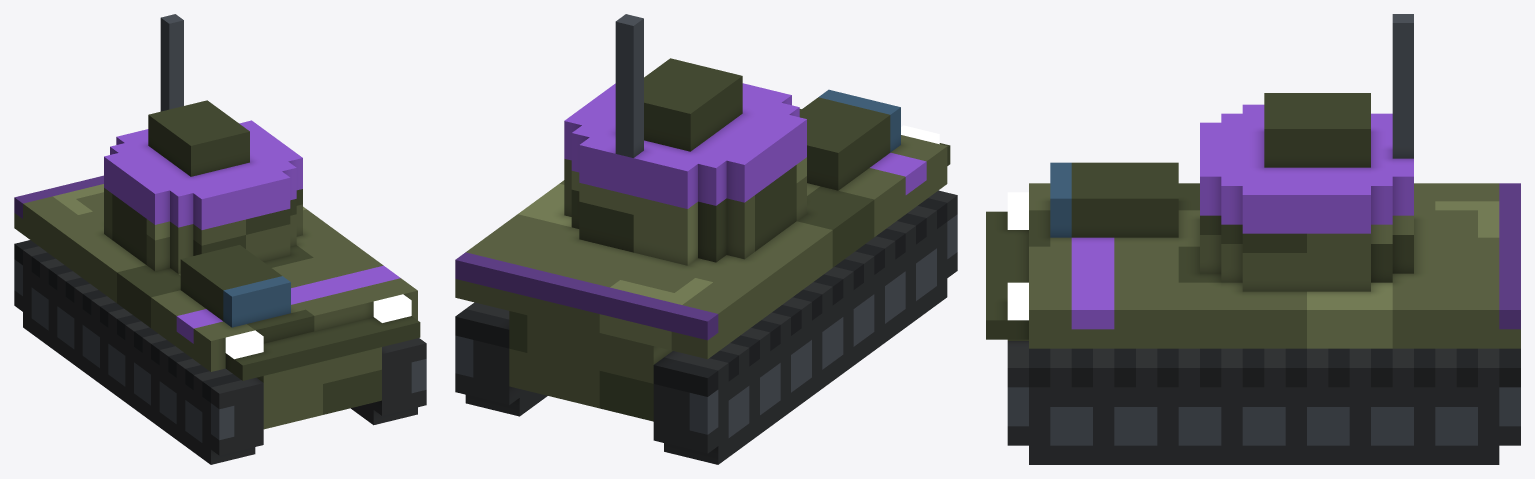
The picture shows the model from 3 angles, left to right: view 1: azimuth 30°, elevation 25°; view 2: azimuth 150°, elevation 25°; view 3: azimuth 270°, elevation 25°; orthographic projection. The views are drawn at different scales.
Parts seen in each view (by area): view 1: cm_aa_h_4_body; view 2: cm_aa_h_4_body; view 3: cm_aa_h_4_body.
Boxes of the visible parts, <box> form: cm_aa_h_4_body: <box>14,14,426,464</box>; cm_aa_h_4_body: <box>455,14,957,464</box>; cm_aa_h_4_body: <box>986,14,1520,464</box>.
Size of the model in its own units: 0.875 by 1.25 by 1.56.
Materials: 1 (1 with a texture image).
